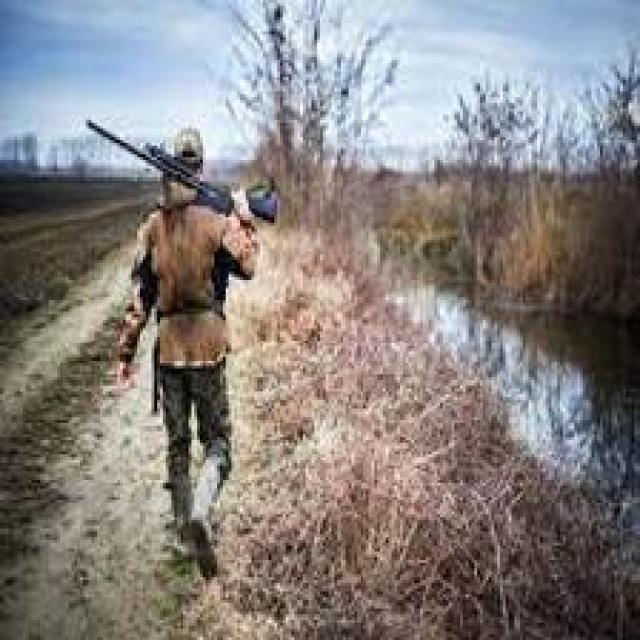Rifle: (79, 116, 282, 228)
